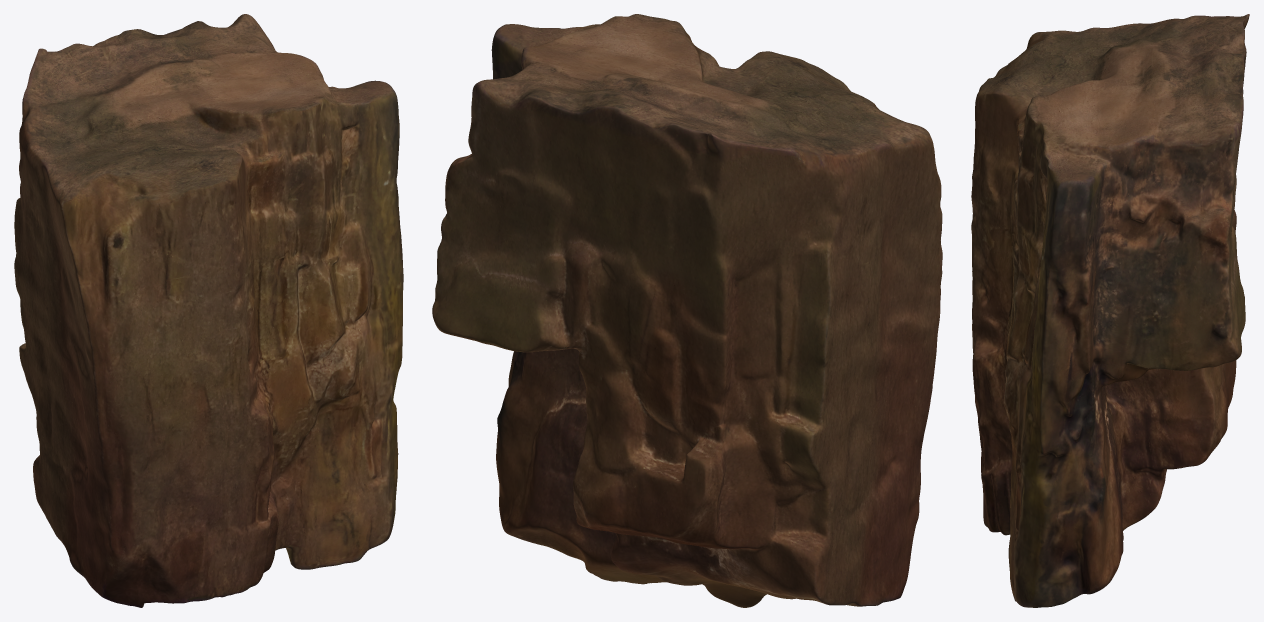
The model's file is wood1.glb.
The picture shows the model from 3 angles, left to right: view 1: azimuth 30°, elevation 25°; view 2: azimuth 150°, elevation 25°; view 3: azimuth 270°, elevation 25°; orthographic projection. The views are drawn at different scales.
Size of the model in its own units: 1.44 by 1.9 by 0.9849.
Materials: 1 (1 with a texture image).
